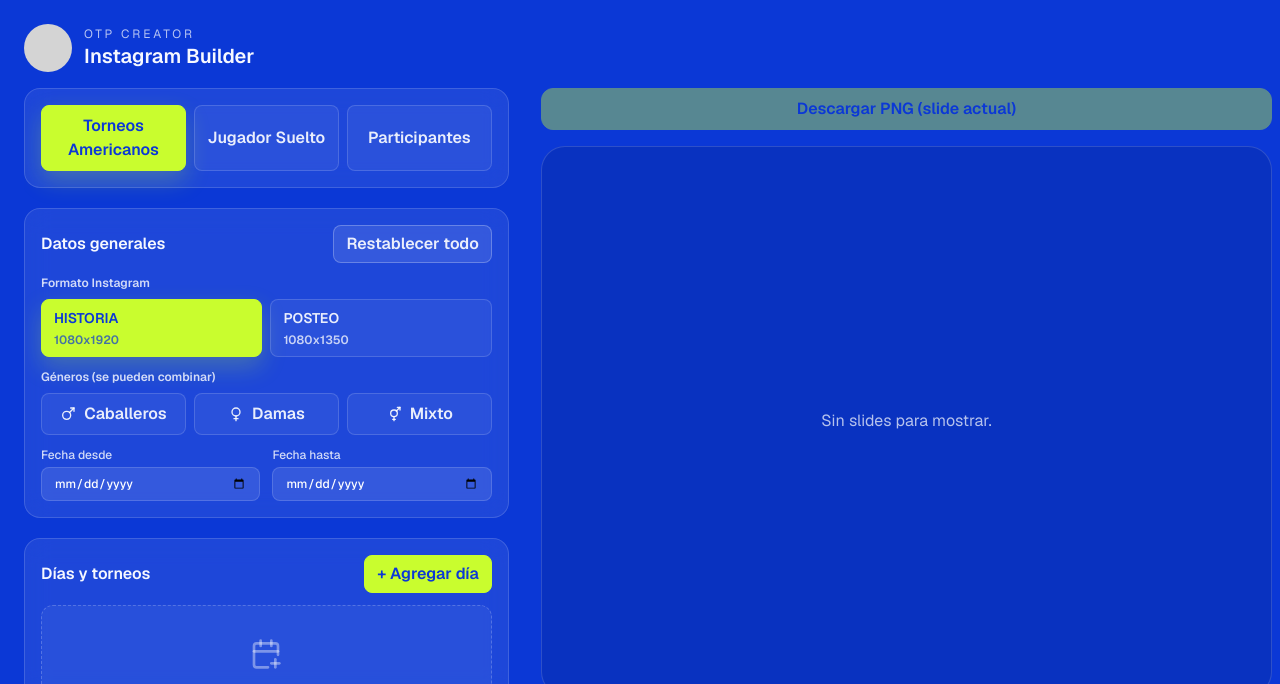
PostBuilder › filtra categorías según el género seleccionado
The width and height of the screenshot is (1280, 684).
Click the button "+ Agregar día" at (428, 574), box x1=364 y1=555 x2=492 y2=593
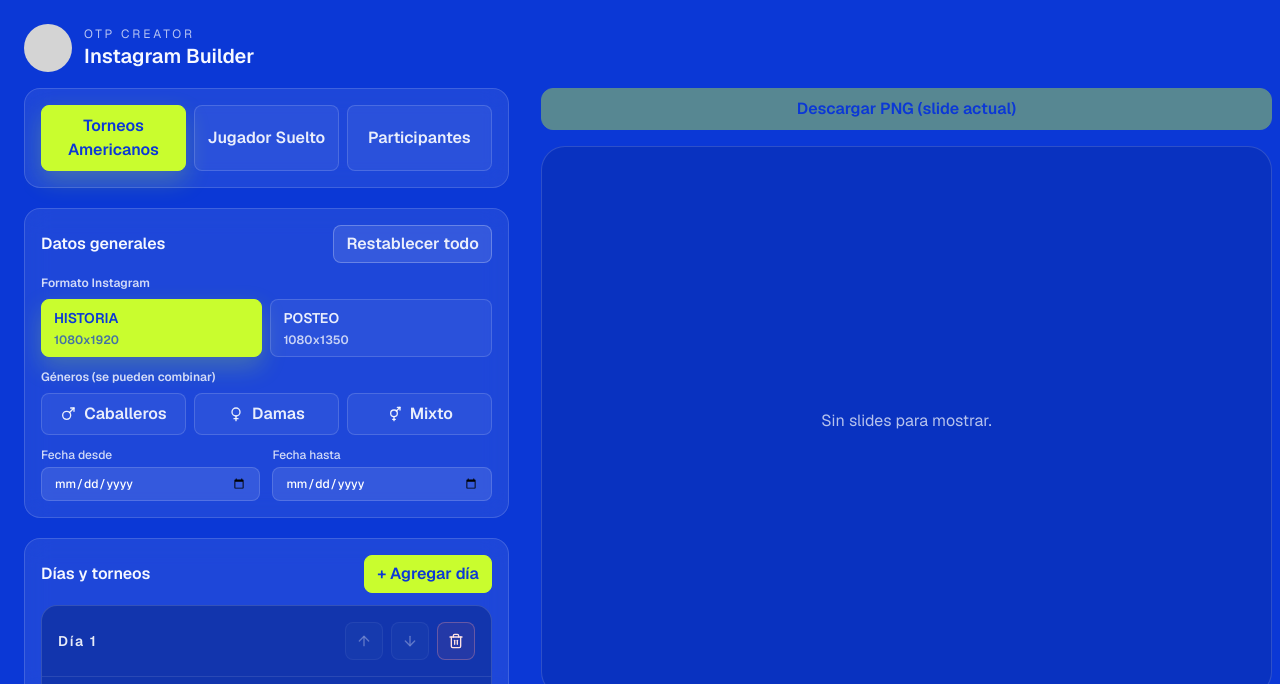
Click the button "Damas" at (266, 414), box x1=194 y1=393 x2=339 y2=435
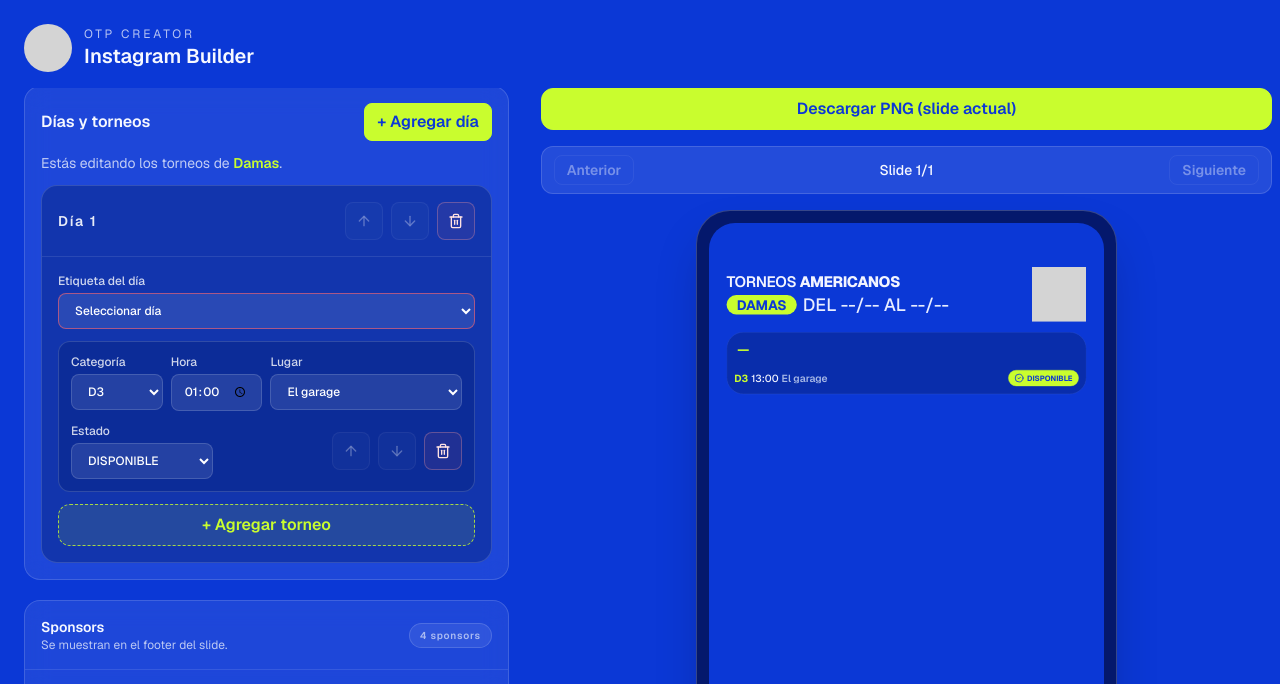
Result: the dropdown labelled "Categoría" shows "D3" at x1=71 y1=374 x2=163 y2=410
